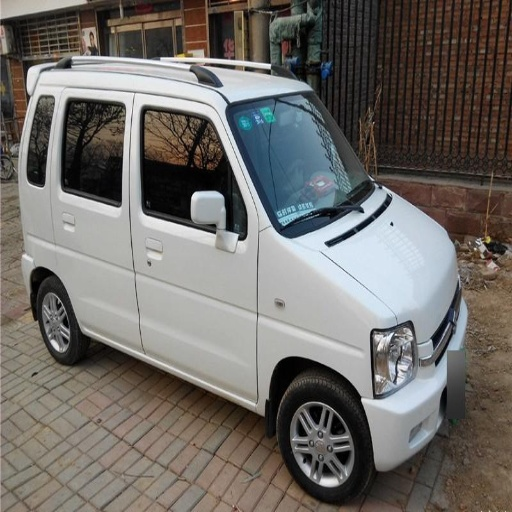front_bumper: (364, 373, 446, 466)
front_right_door: (132, 96, 256, 401)
front_right_light: (371, 324, 417, 388)
